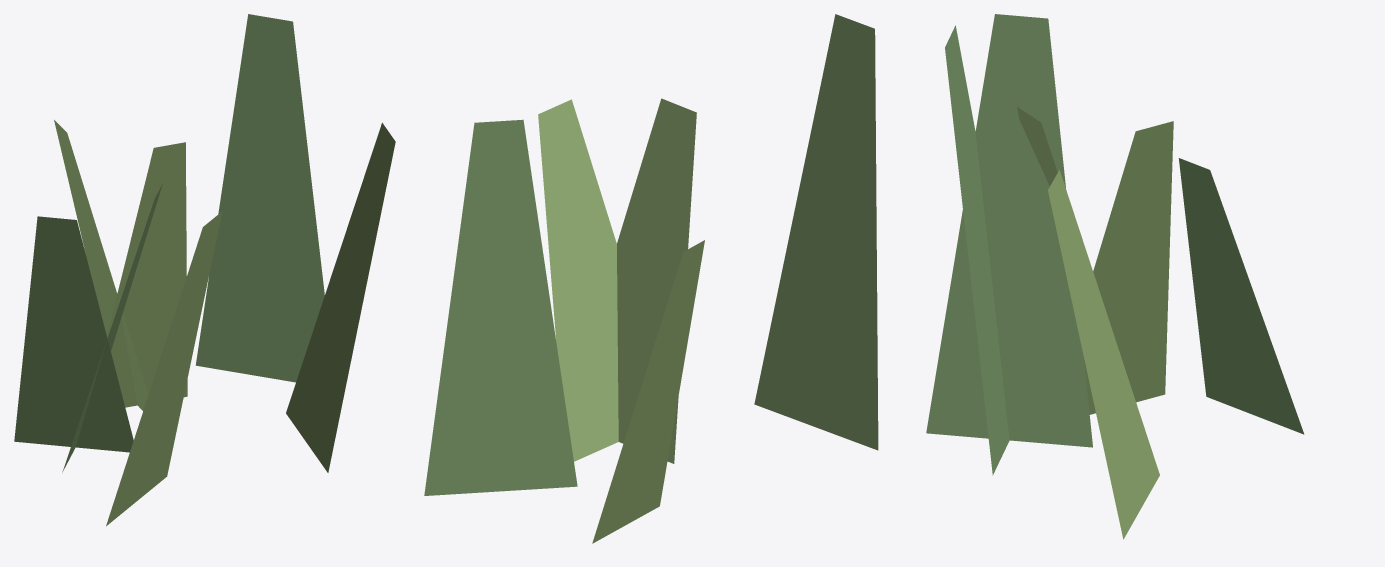
The model's file is shrub.temp.fern__spring.glb.
3 views of the same model, side by side, from view 1: azimuth 30°, elevation 25°; view 2: azimuth 150°, elevation 25°; view 3: azimuth 270°, elevation 25° (orthographic). The views are drawn at different scales.
Visible parts, largest first — view 1: shrub.temp.fern__spring; view 2: shrub.temp.fern__spring; view 3: shrub.temp.fern__spring.
Boxes of the visible parts, left/top/right/bottom form: shrub.temp.fern__spring: left=14, top=14, right=395, bottom=526; shrub.temp.fern__spring: left=424, top=14, right=878, bottom=543; shrub.temp.fern__spring: left=926, top=14, right=1304, bottom=539.
Size of the model in its own units: 0.909 by 0.9974 by 1.01.
